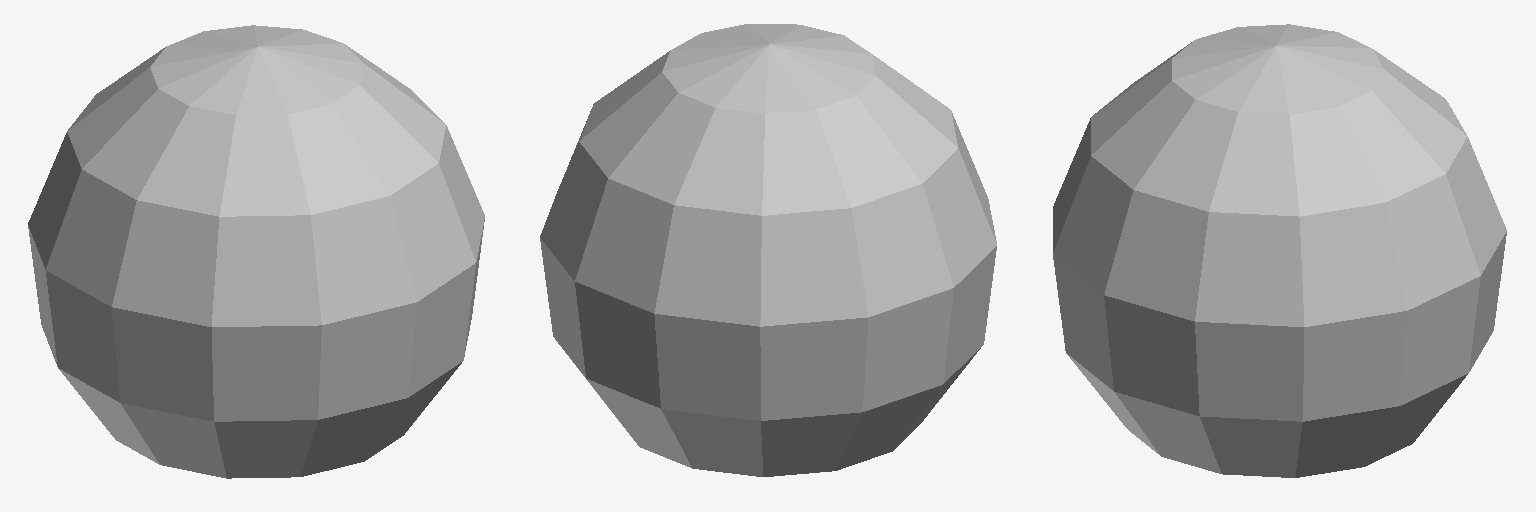
File: SkyBoxV1.obj
3 views of the same model, side by side, from view 1: azimuth 30°, elevation 25°; view 2: azimuth 150°, elevation 25°; view 3: azimuth 270°, elevation 25° (orthographic).
Visible parts, largest first — view 1: Sphere001; view 2: Sphere001; view 3: Sphere001.
Boxes of the visible parts, <box> form: Sphere001: <box>28,25,484,478</box>; Sphere001: <box>540,24,996,476</box>; Sphere001: <box>1053,24,1506,477</box>.
Bounding box in the file's own units: 867 × 880 × 861.